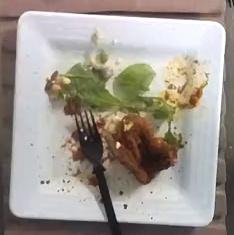lettuce: (47, 62, 176, 119)
unknown: (98, 114, 177, 184)
